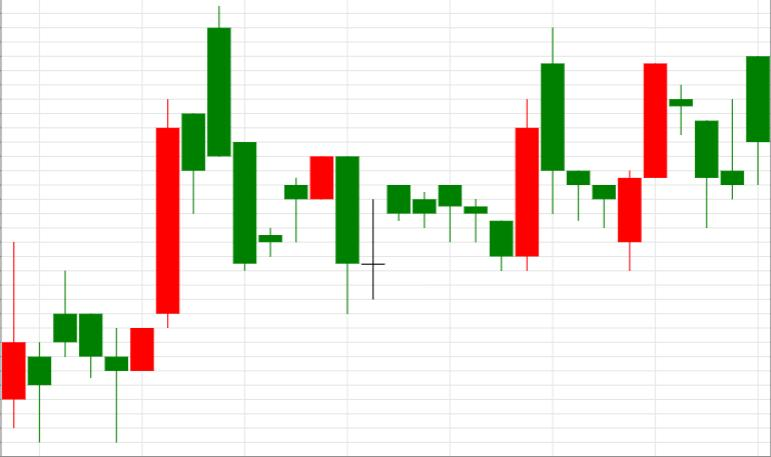bullish_engulfing_rise: (386, 99, 539, 270)
